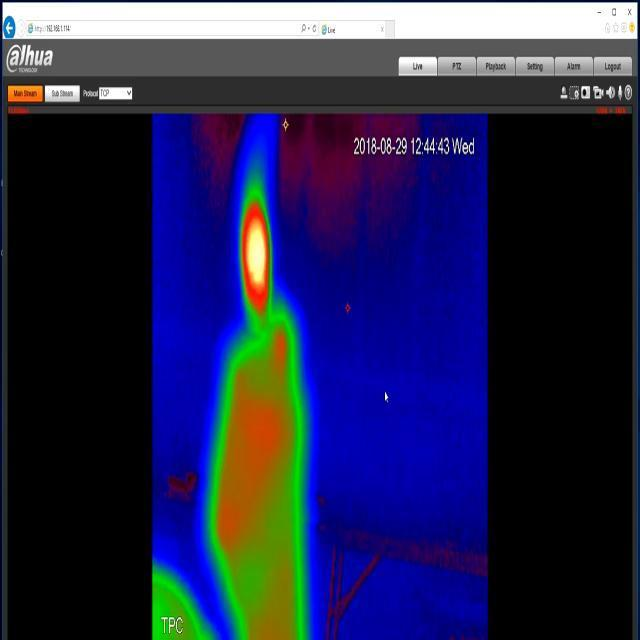fire: (239, 191, 273, 329)
